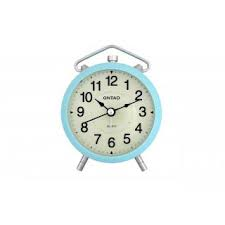alarm_clock: (60, 40, 159, 170), (64, 40, 162, 170), (64, 40, 159, 170)
